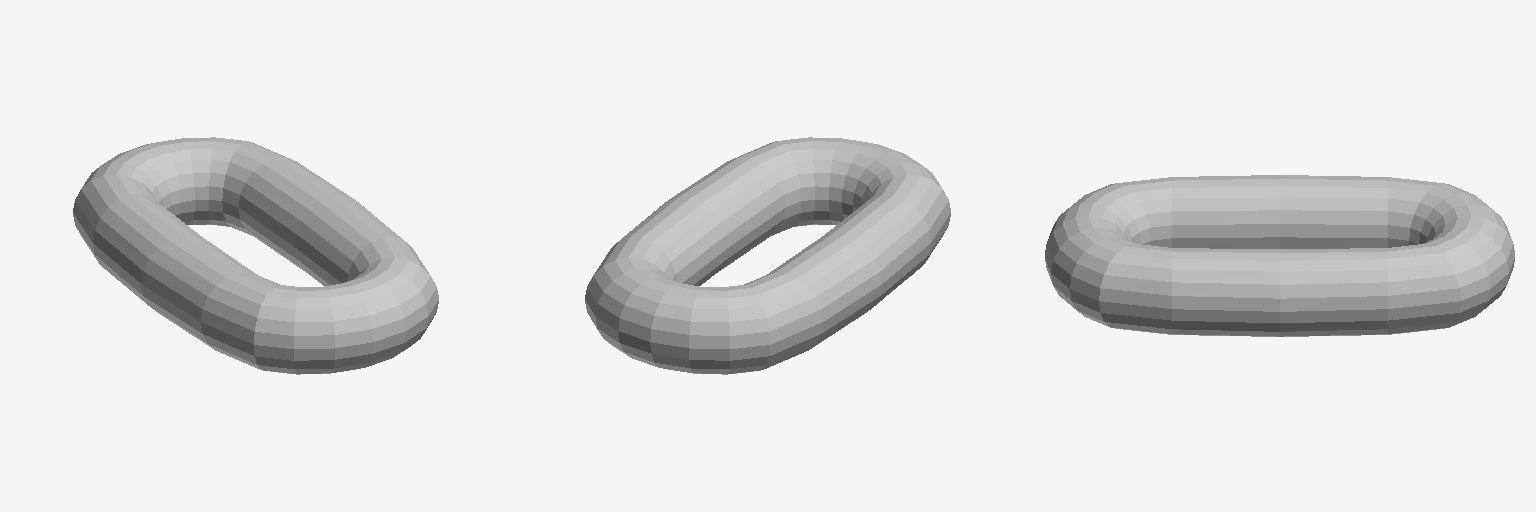
The model's file is chainLink.obj.
The picture shows the model from 3 angles: view 1: azimuth 30°, elevation 25°; view 2: azimuth 150°, elevation 25°; view 3: azimuth 270°, elevation 25°; orthographic projection.
Size of the model in its own units: 1.09 by 0.3645 by 1.95.